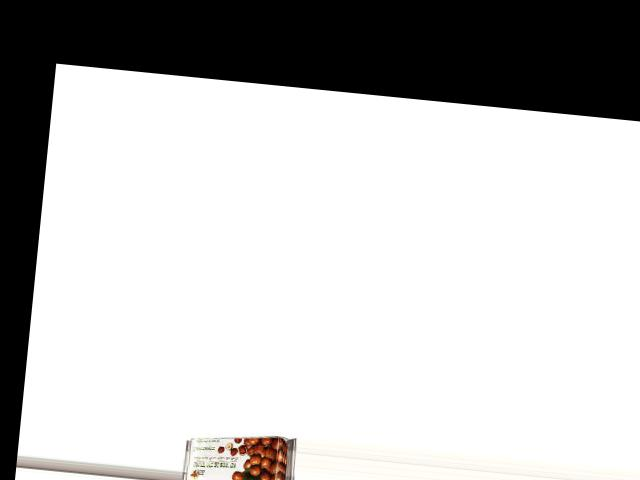chocolate: (181, 426, 296, 480)
